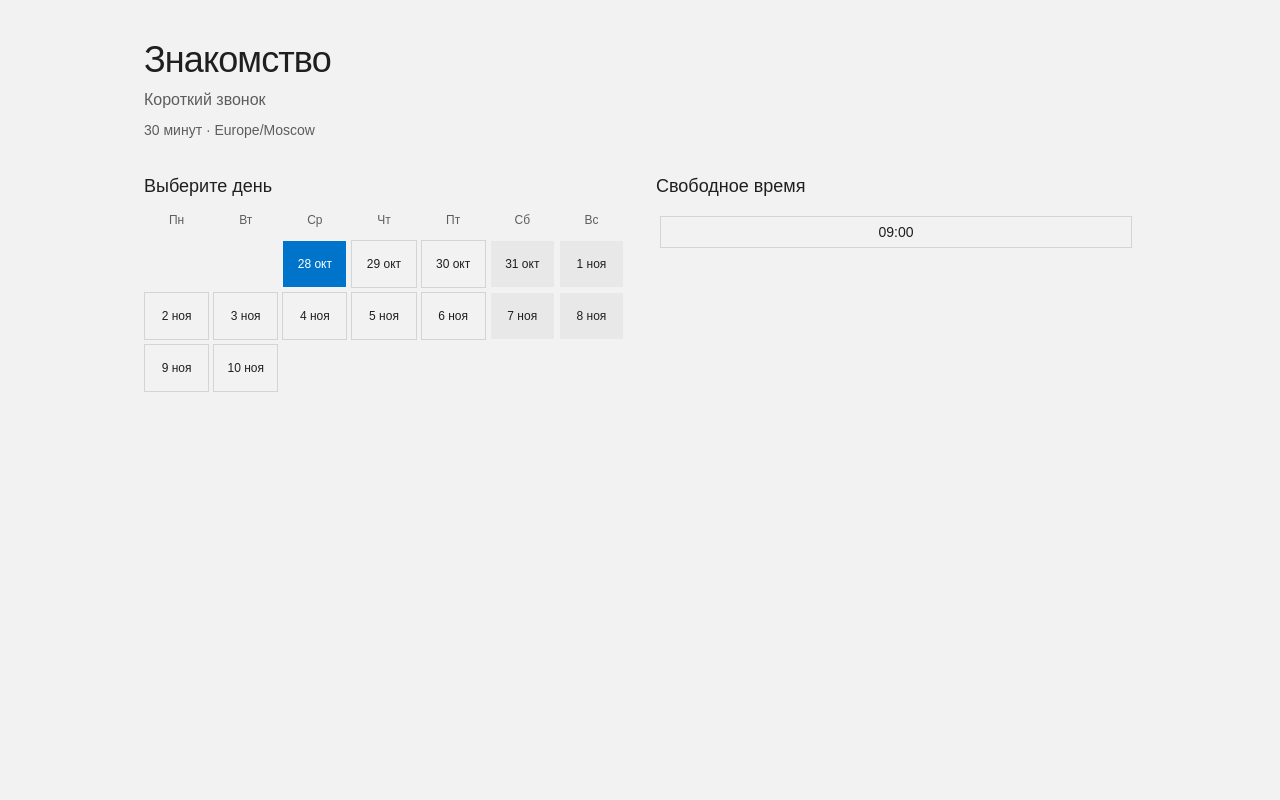
Scenario: EventTypePage › books the selected slot and shows the confirmation screen
Click the button "09:00" at (896, 232), box [660,216,1132,248]
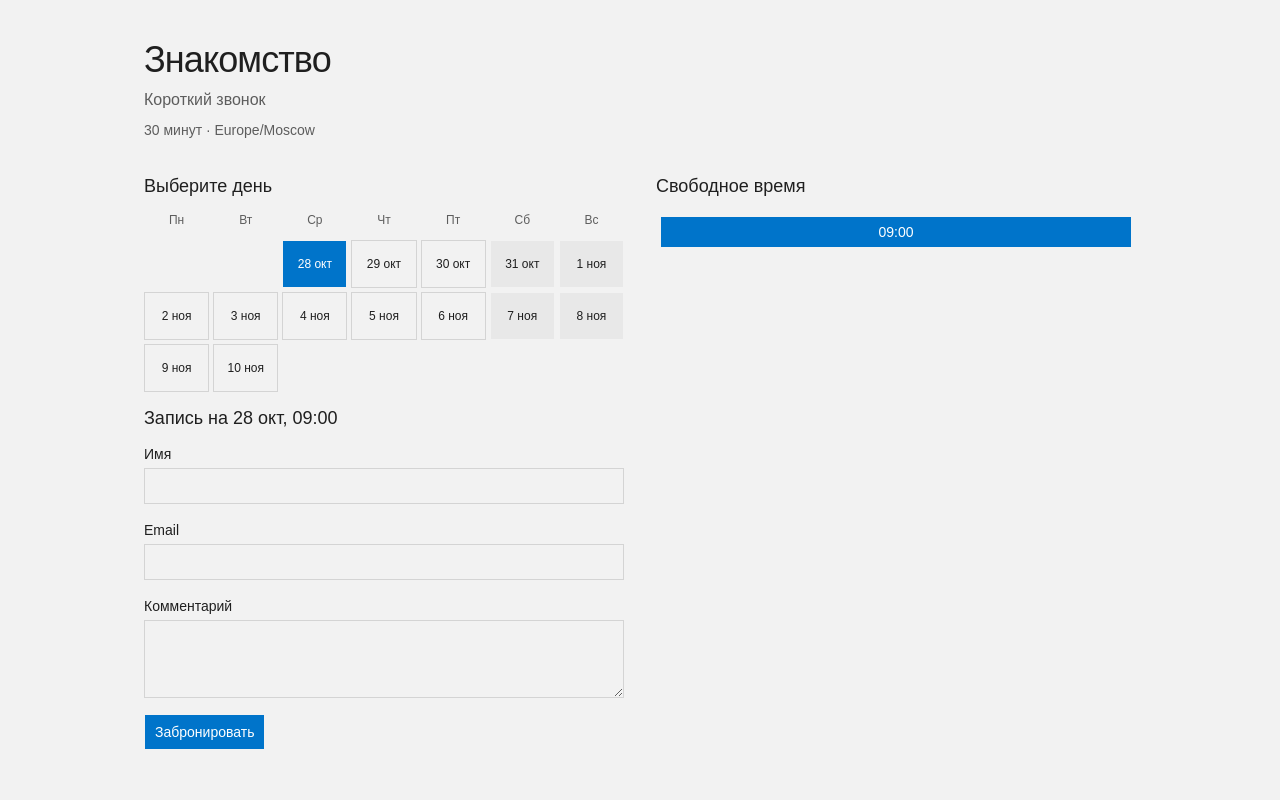
Type "Гость" into the field labelled "Имя" at (384, 486), box [144,468,624,504]
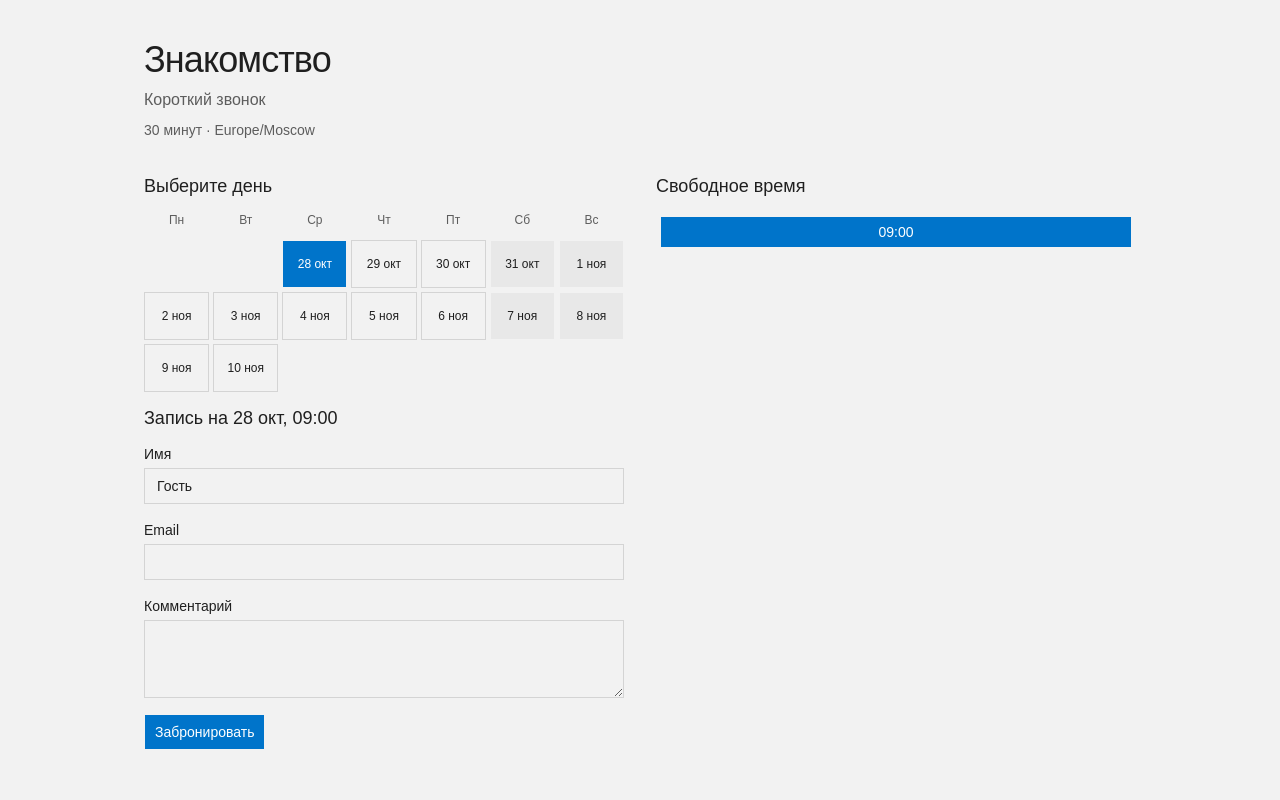
Type "guest@example.com" into the field labelled "Email" at (384, 562), box [144,544,624,580]
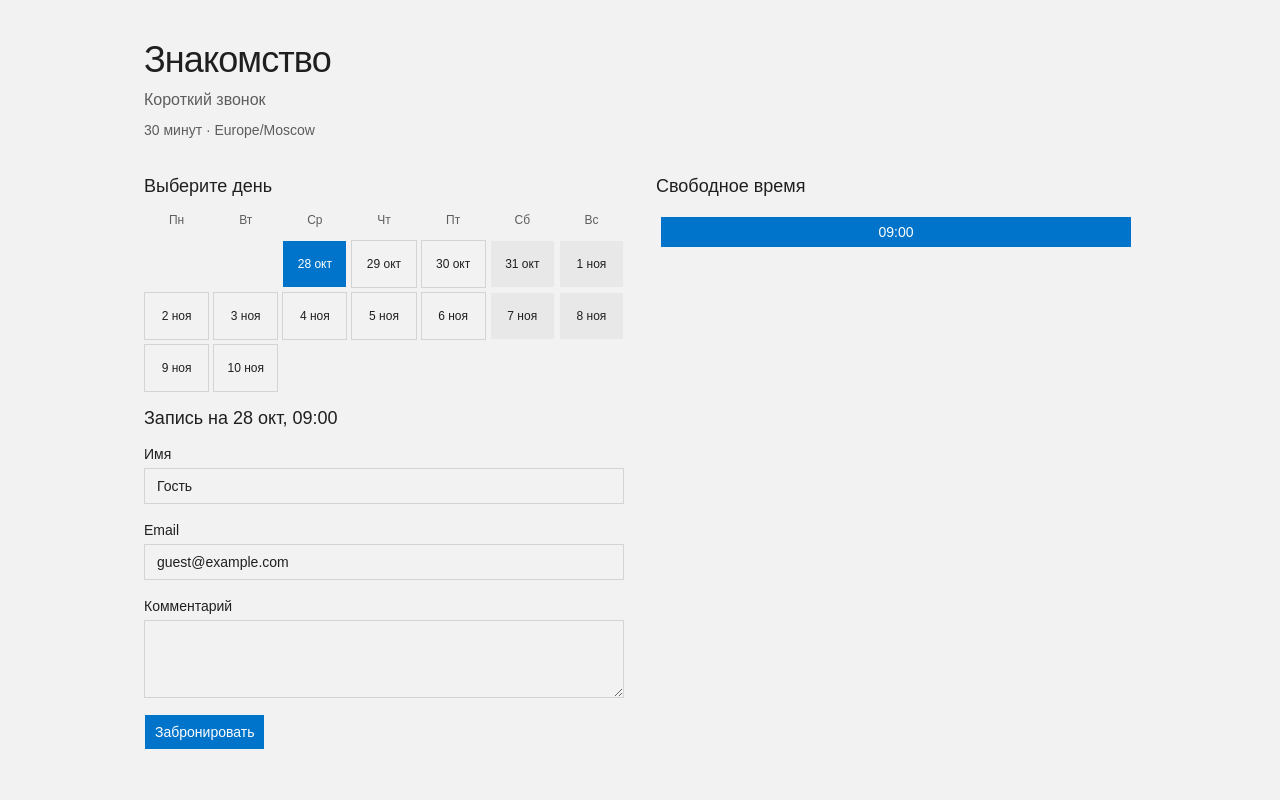
Click the button "Забронировать" at (205, 732), box [144,714,265,750]
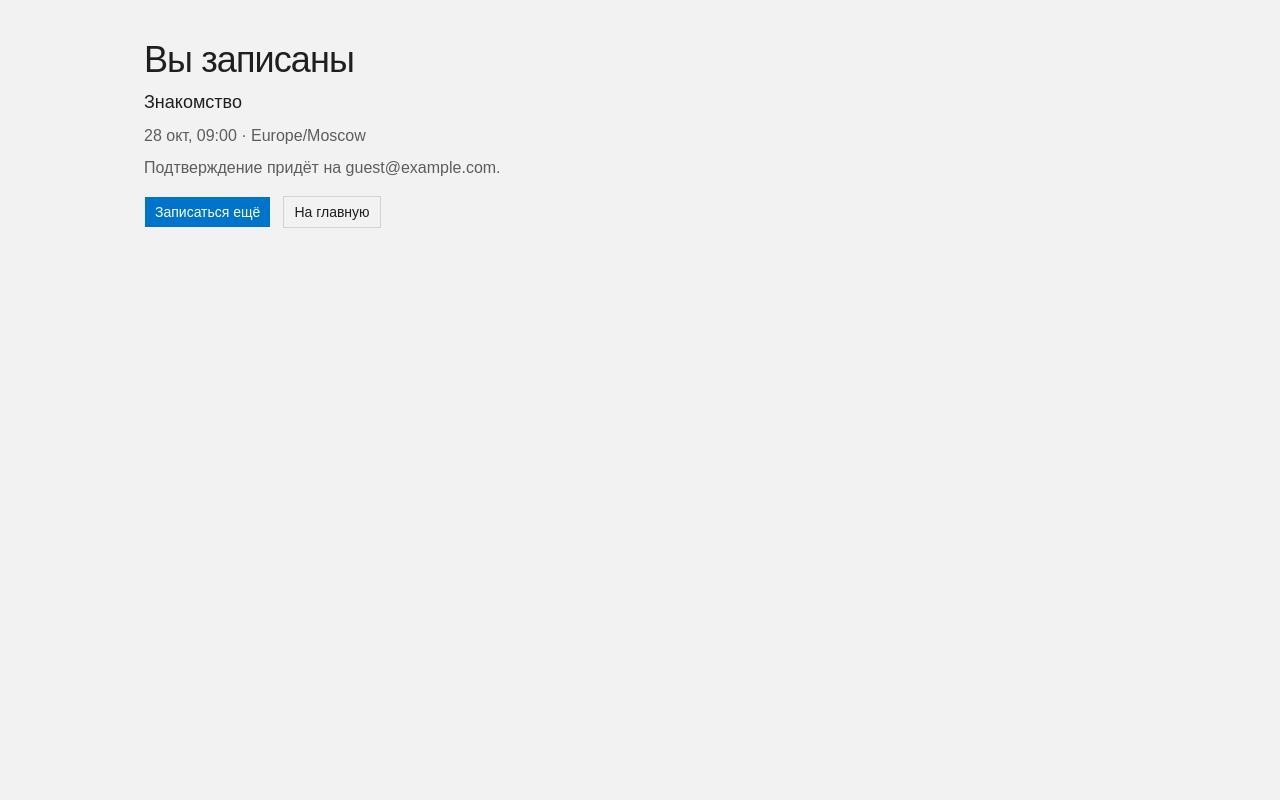
Expected: the heading "Вы записаны" is shown, [144,39,354,80]
Expected: the text "28 окт, 09:00 · Europe/Moscow" is shown, [144,127,366,144]
Expected: the text "Подтверждение придёт на guest@example.com." is shown, [144,159,501,176]
